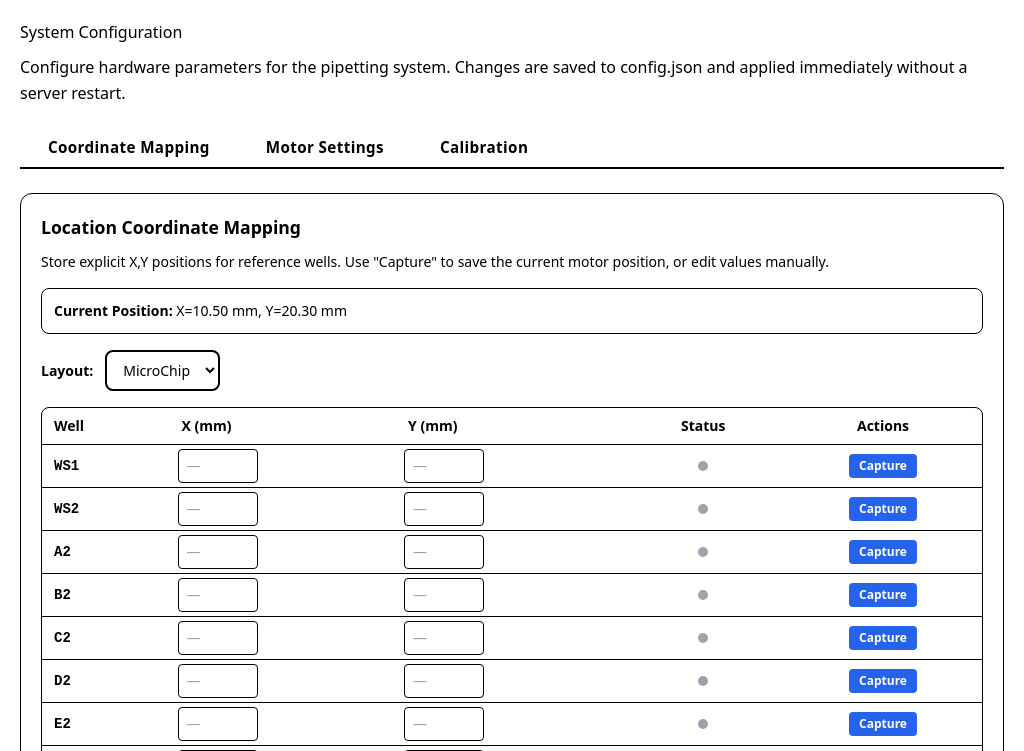
Test case: Motor Settings › renders speed configuration section
Click the button "Motor Settings": (325, 147) [238,126,412,169]
(page scrolled)
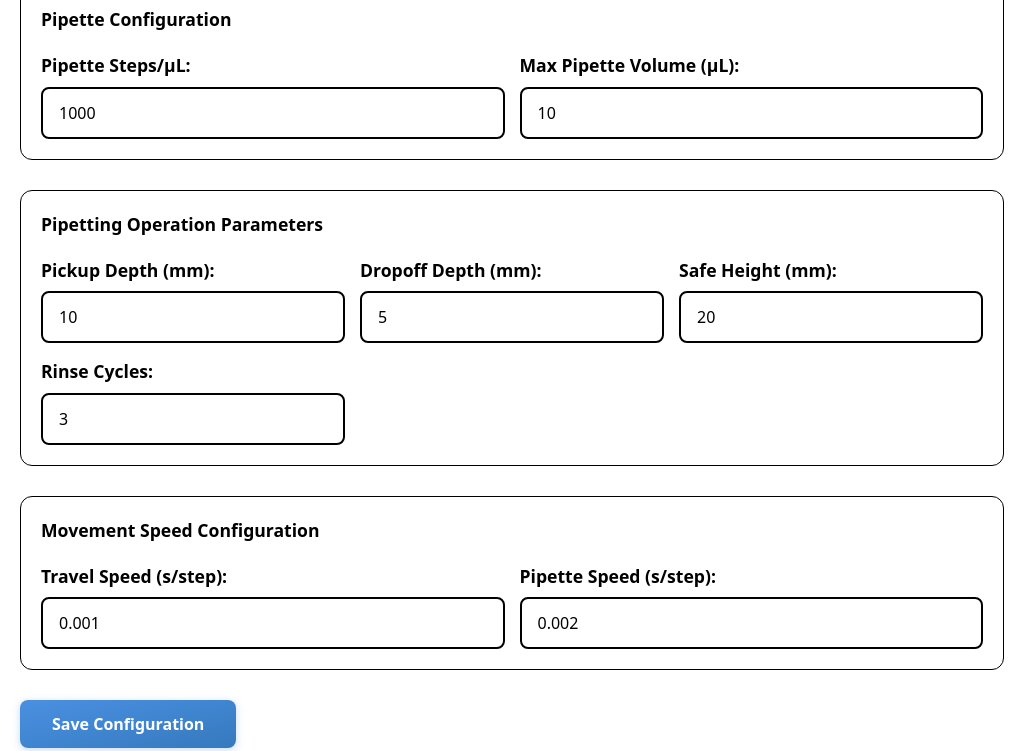
Result: the heading "Movement Speed Configuration" is shown at [41,518,320,542]
Result: the text "Travel Speed (s/step):" is shown at [41,564,227,588]
Result: the text "Pipette Speed (s/step):" is shown at [520,564,716,588]
